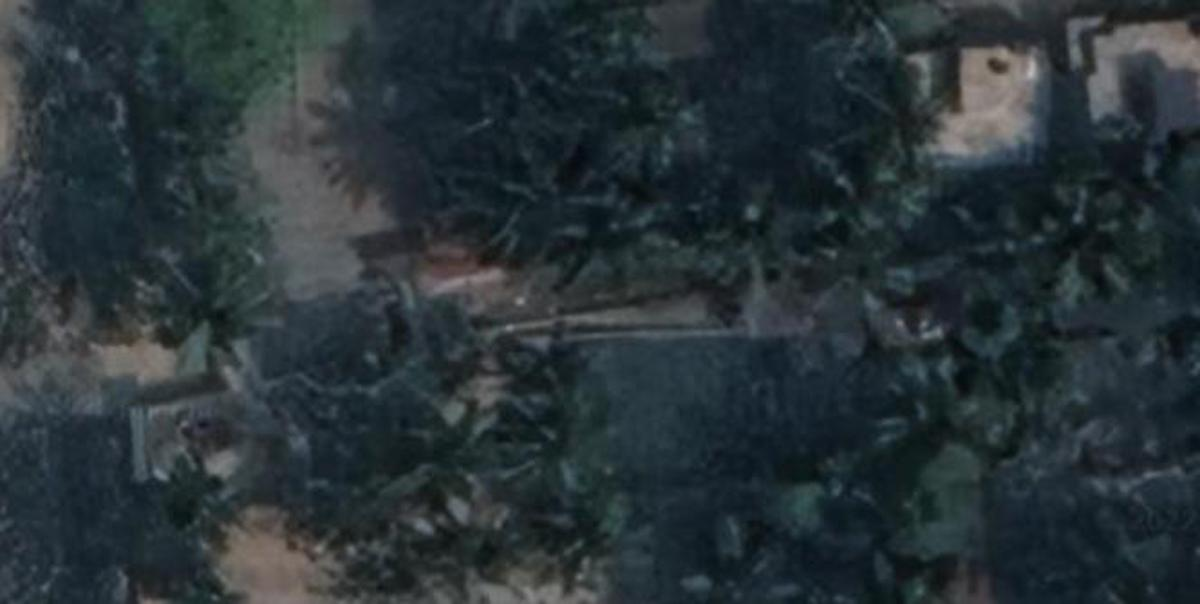coconut: (133, 233, 281, 381), (1001, 155, 1138, 302), (498, 361, 650, 493), (910, 202, 1053, 341), (375, 273, 513, 406), (704, 180, 834, 320), (988, 370, 1124, 500), (460, 115, 581, 253), (865, 341, 995, 466), (684, 491, 820, 604), (386, 396, 515, 511), (563, 169, 683, 291), (827, 493, 956, 604), (515, 470, 636, 587), (811, 135, 928, 254), (594, 57, 710, 173), (482, 12, 601, 122), (834, 57, 954, 164), (153, 452, 262, 555), (854, 280, 957, 388)
